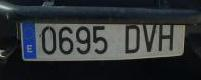0: (41, 26, 56, 55)
5: (93, 25, 108, 55)
6: (58, 26, 74, 55)
9: (75, 26, 91, 55)
D: (125, 25, 140, 54)
H: (159, 24, 174, 51)
V: (143, 24, 157, 53)
